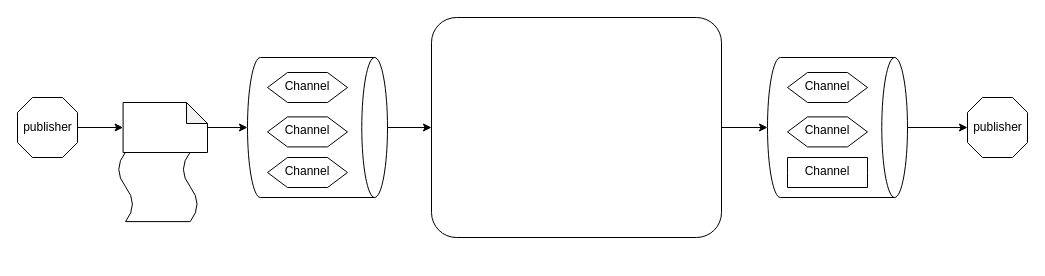
Image size: 1045x276. Some labels were removed from this diagram. The shapes that lost their labels are listed below. From the top down, each one's box as (x1, y1, x2, y2) in pixels, then its label:
(122, 102, 208, 152): Routing Key
(430, 16, 722, 238): Message Broker
(117, 151, 198, 222): message
